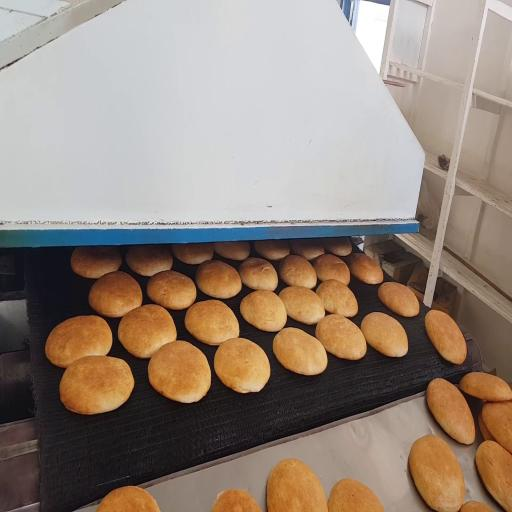bread: (60, 356, 134, 414), (409, 435, 465, 511), (148, 341, 210, 403), (46, 316, 112, 367), (267, 459, 327, 511), (427, 379, 475, 444), (214, 338, 270, 393), (118, 305, 176, 358), (273, 328, 327, 375), (476, 441, 511, 511), (89, 271, 142, 317), (185, 300, 239, 345), (316, 315, 366, 360), (425, 310, 466, 364), (361, 312, 408, 357), (147, 271, 196, 310), (240, 290, 286, 331), (328, 479, 384, 511), (279, 286, 325, 324), (196, 260, 241, 298), (71, 247, 122, 278), (316, 280, 358, 317), (97, 486, 159, 511), (482, 402, 511, 453), (460, 373, 511, 402), (126, 245, 173, 276), (378, 282, 419, 317), (239, 258, 278, 291), (279, 255, 317, 288), (349, 253, 383, 284), (314, 255, 350, 284), (212, 490, 261, 511), (172, 244, 213, 265), (214, 241, 250, 261), (290, 239, 324, 260), (254, 240, 289, 260), (323, 238, 351, 256), (478, 412, 495, 440), (461, 502, 492, 511)
